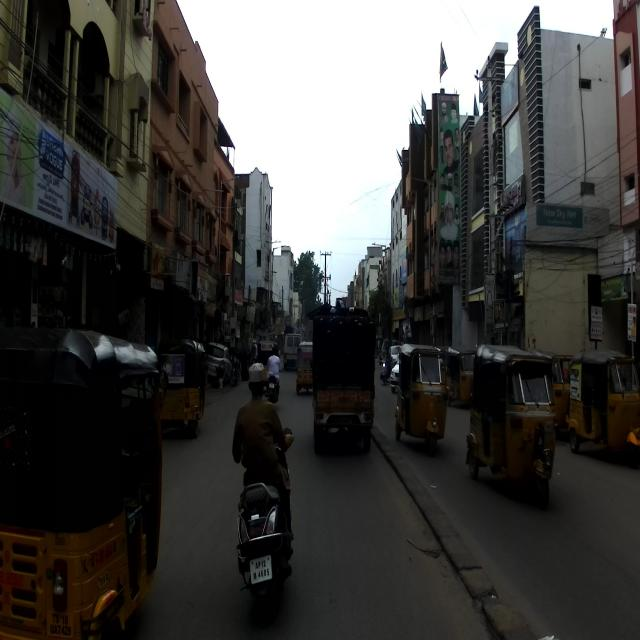autorickshaw: (0, 326, 169, 639), (465, 342, 559, 508), (567, 348, 640, 470), (394, 342, 450, 456), (155, 336, 208, 438)
scooter: (236, 423, 292, 624)
truck: (312, 306, 376, 452)
